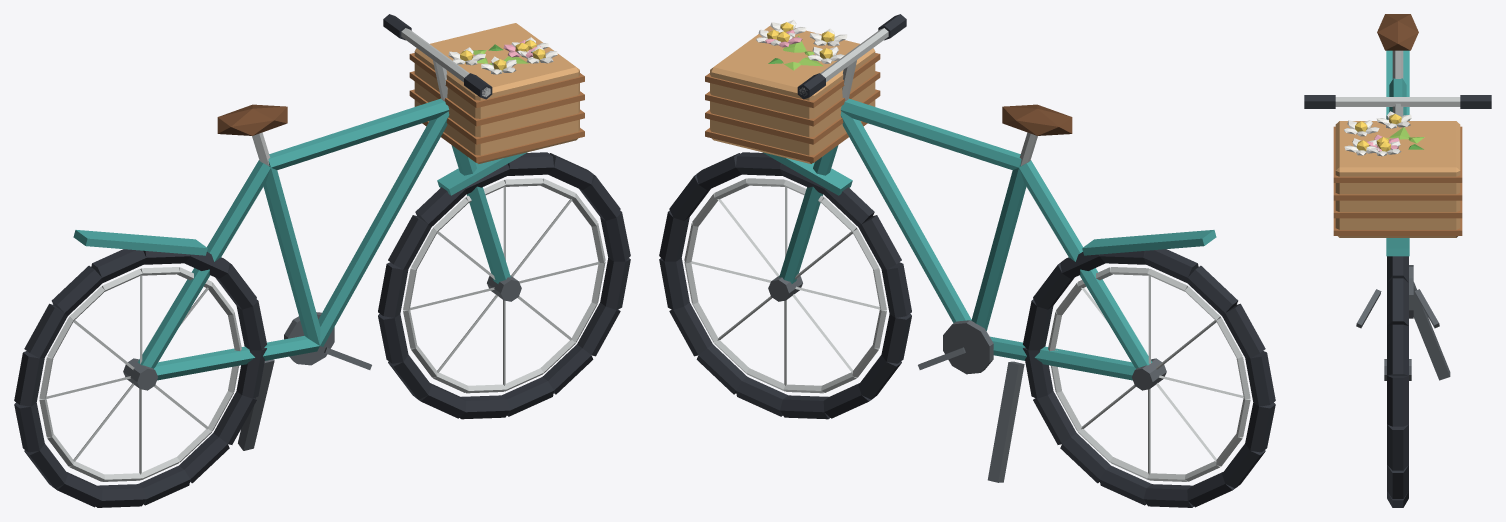
The model's file is bicycle.glb.
The picture shows the model from 3 angles, left to right: view 1: azimuth 30°, elevation 25°; view 2: azimuth 150°, elevation 25°; view 3: azimuth 270°, elevation 25°; orthographic projection. The views are drawn at different scales.
Parts seen in each view (by area): view 1: Bicycle; view 2: Bicycle; view 3: Bicycle.
Part boxes in pixels (x1,y1,x2,y2): Bicycle: (14, 14, 630, 507); Bicycle: (659, 14, 1275, 507); Bicycle: (1304, 14, 1491, 507).
Size of the model in its own units: 1.75 by 1.04 by 0.48.
Materials: 1 (1 with a texture image).
